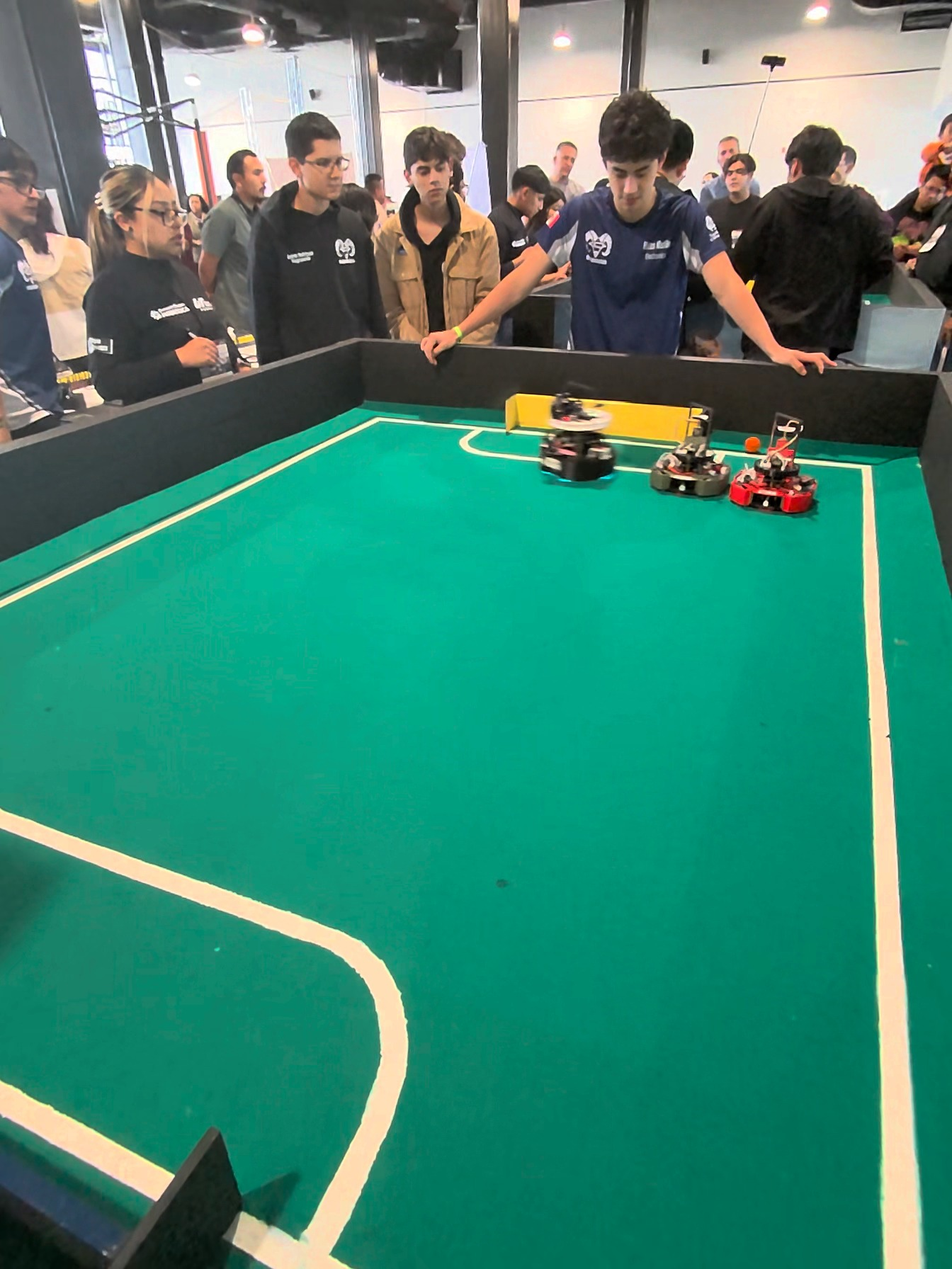Robot: (734, 409, 823, 519), (535, 382, 616, 489), (648, 406, 732, 503)
